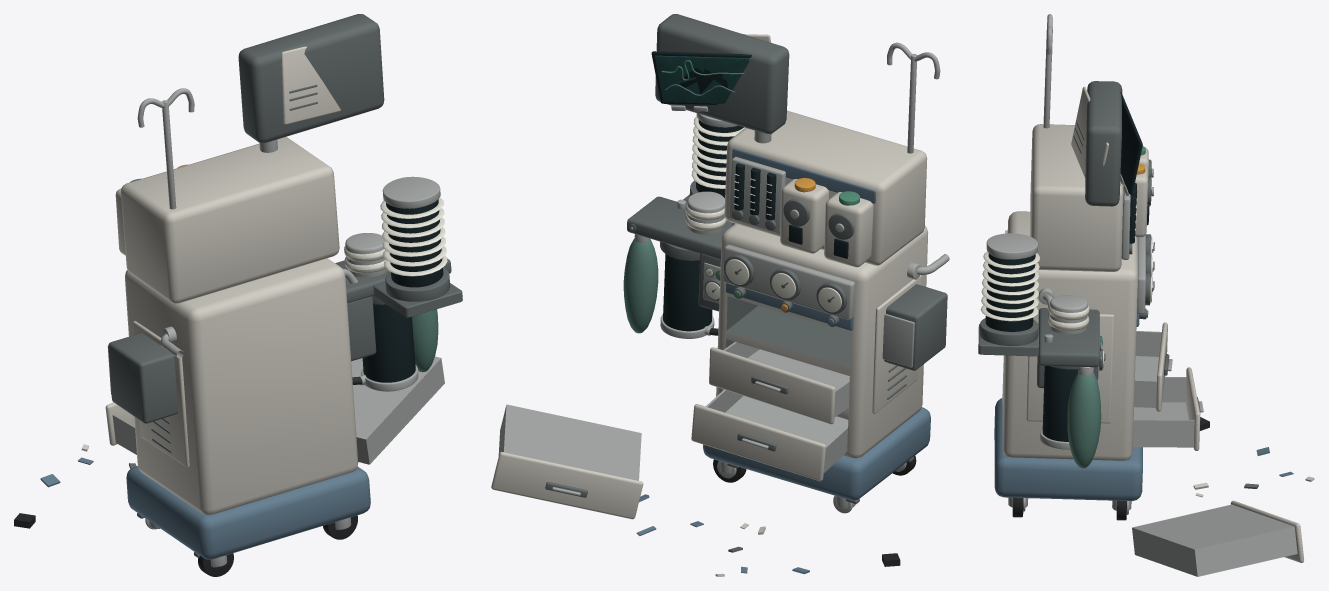
The model's file is anesthesia_broken.fbx.
3 renders of one model, left to right at view 1: azimuth 30°, elevation 25°; view 2: azimuth 150°, elevation 25°; view 3: azimuth 270°, elevation 25°, orthographic. The views are drawn at different scales.
Visible parts, largest first — view 1: anesthesia_broken, anesthesia_drawer3, anesthesia_drawer1, anesthesia_debris; view 2: anesthesia_broken, anesthesia_drawer3, anesthesia_drawer1, anesthesia_drawer2, anesthesia_monitor_glass, anesthesia_debris; view 3: anesthesia_broken, anesthesia_drawer3, anesthesia_drawer1, anesthesia_drawer2, anesthesia_debris.
Part boxes in pixels (box(x1,y1,x2,y2)): anesthesia_broken: box(107, 14, 462, 576); anesthesia_drawer3: box(351, 356, 444, 464); anesthesia_drawer1: box(105, 402, 136, 454); anesthesia_debris: box(14, 444, 136, 528); anesthesia_broken: box(623, 14, 949, 513); anesthesia_drawer3: box(491, 404, 643, 519); anesthesia_drawer1: box(691, 389, 848, 481); anesthesia_drawer2: box(709, 342, 849, 424); anesthesia_monitor_glass: box(654, 55, 749, 103); anesthesia_debris: box(636, 494, 900, 576); anesthesia_broken: box(978, 14, 1154, 520); anesthesia_drawer3: box(1132, 500, 1303, 576); anesthesia_drawer1: box(1132, 367, 1203, 450); anesthesia_drawer2: box(1134, 322, 1172, 411); anesthesia_debris: box(1193, 417, 1314, 497).
Bounding box in the file's own units: 207 × 220 × 155.
